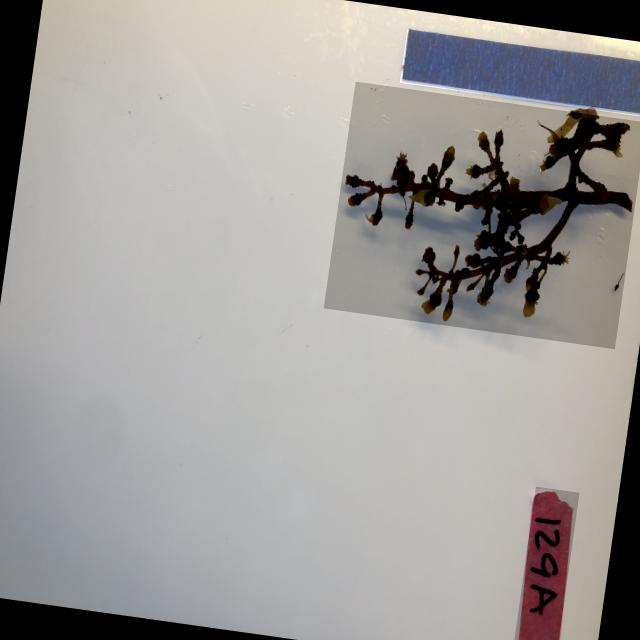index: (509, 486, 578, 640)
measure_label: (399, 29, 640, 119)
rachis_cluster: (322, 81, 640, 349)
